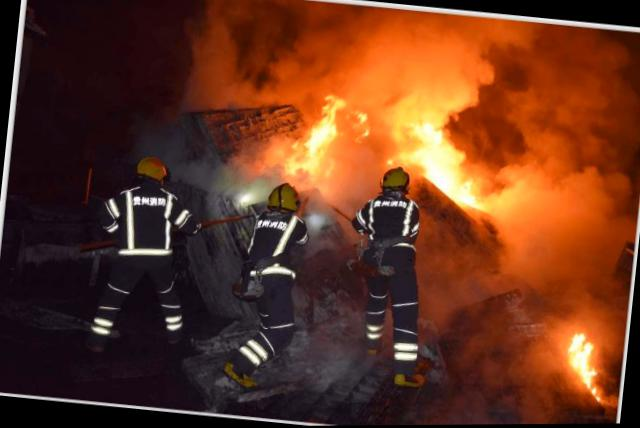fire: (387, 103, 505, 218), (278, 89, 348, 182), (556, 326, 616, 406)
